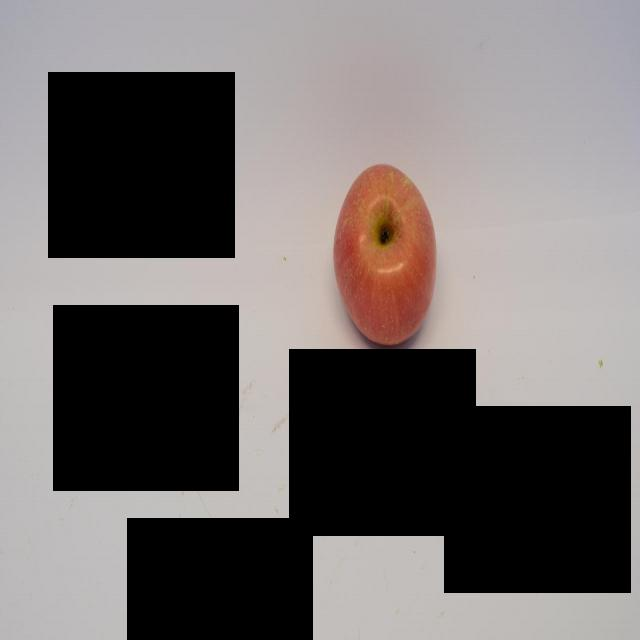apple: (331, 160, 440, 359)
